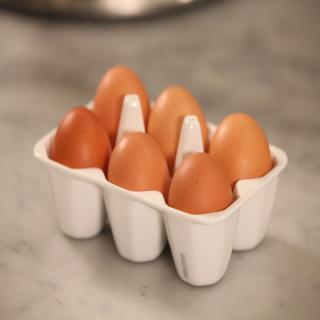Egg: (51, 65, 272, 215)
